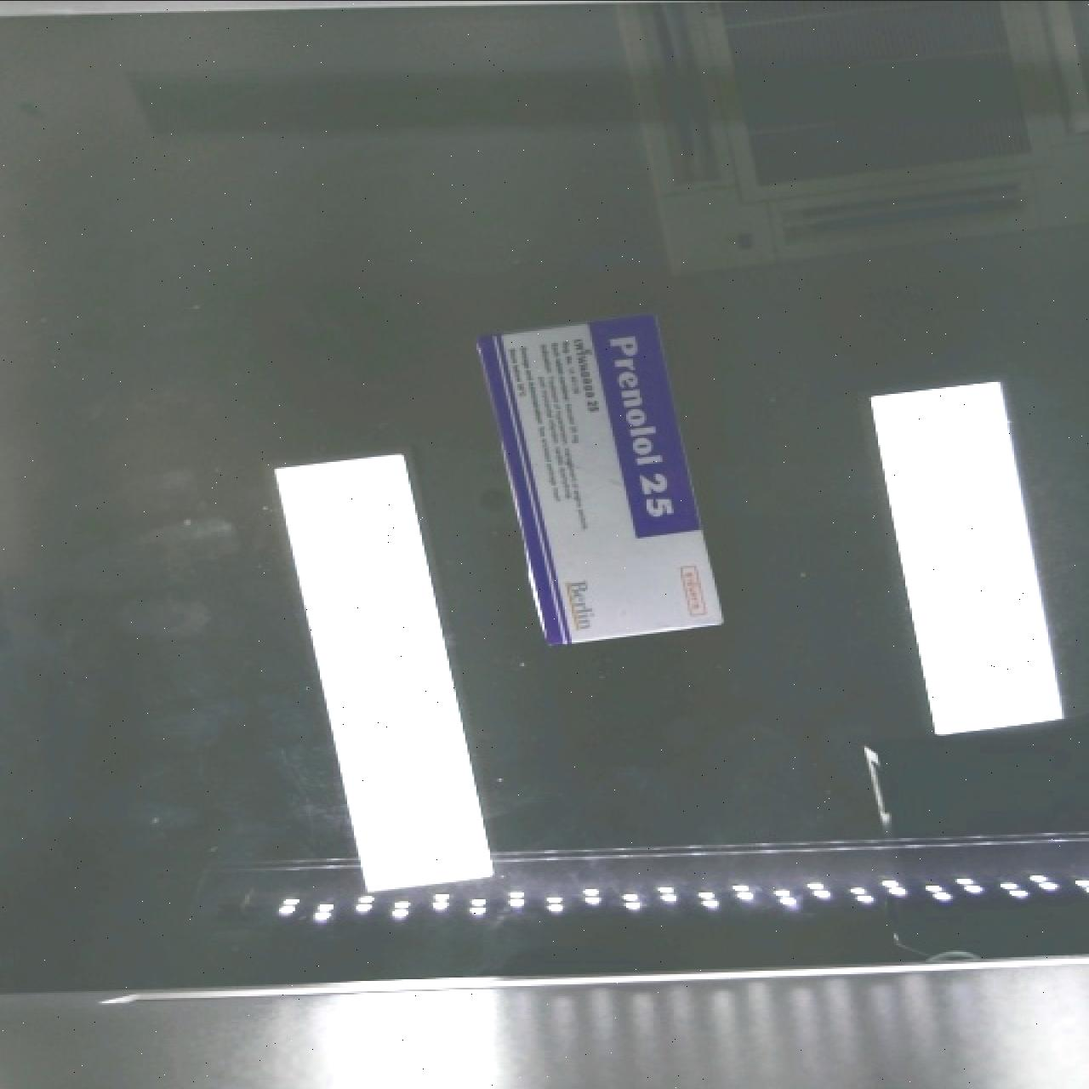medicine_label_obb: (593, 315, 702, 540)
